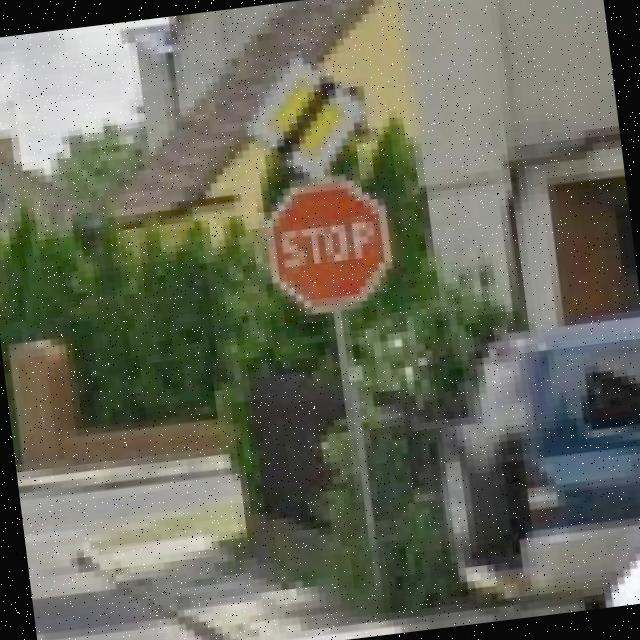Stop: (260, 170, 397, 318)
